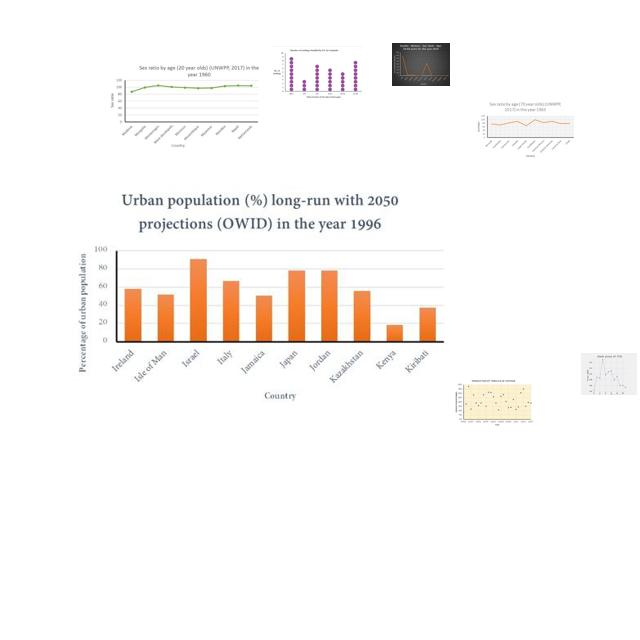Graph: (72, 186, 448, 406), (109, 64, 264, 149), (475, 100, 576, 159), (270, 46, 364, 101), (453, 379, 534, 427), (392, 43, 450, 86), (581, 353, 637, 395)
